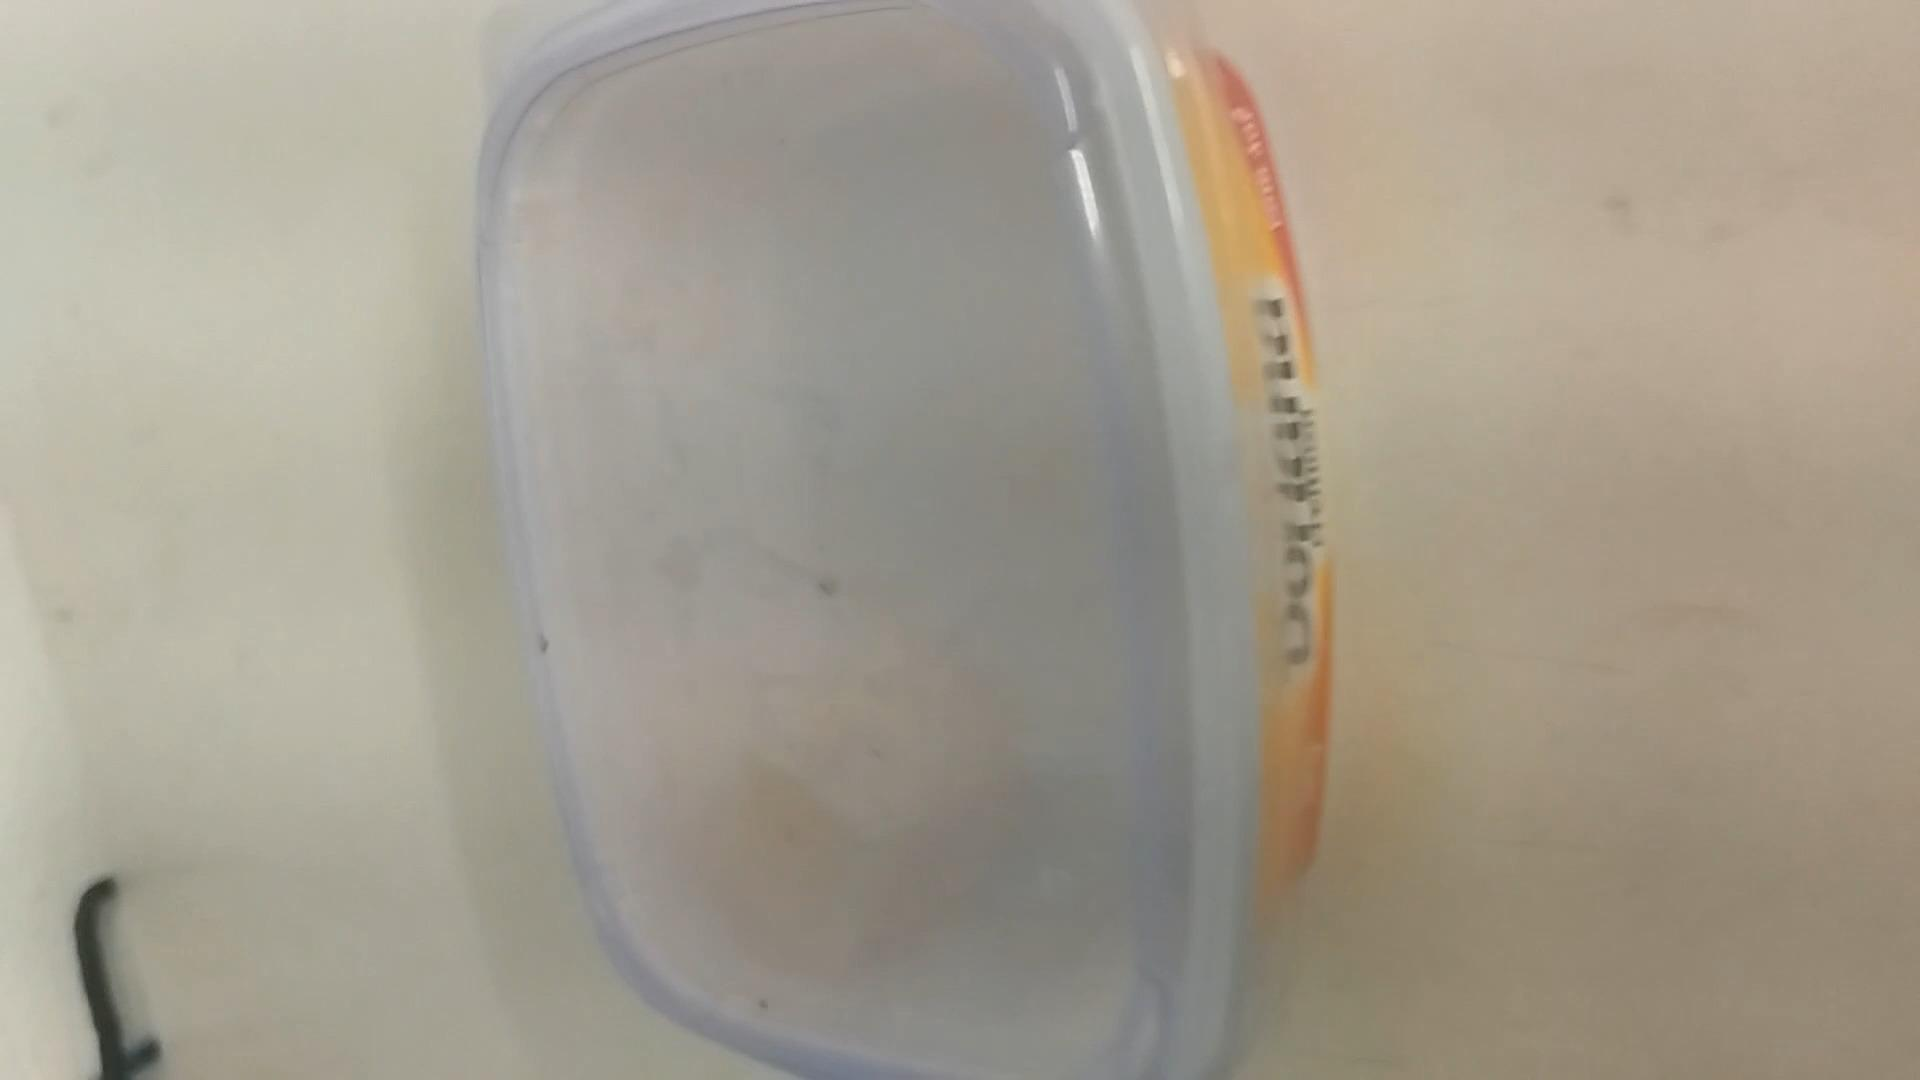butter: (493, 12, 1321, 1059)
